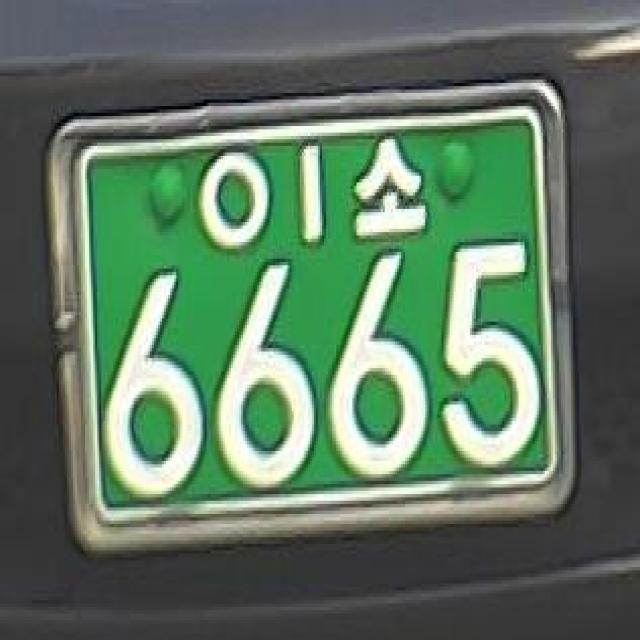illegal_plate: (59, 71, 594, 574)
